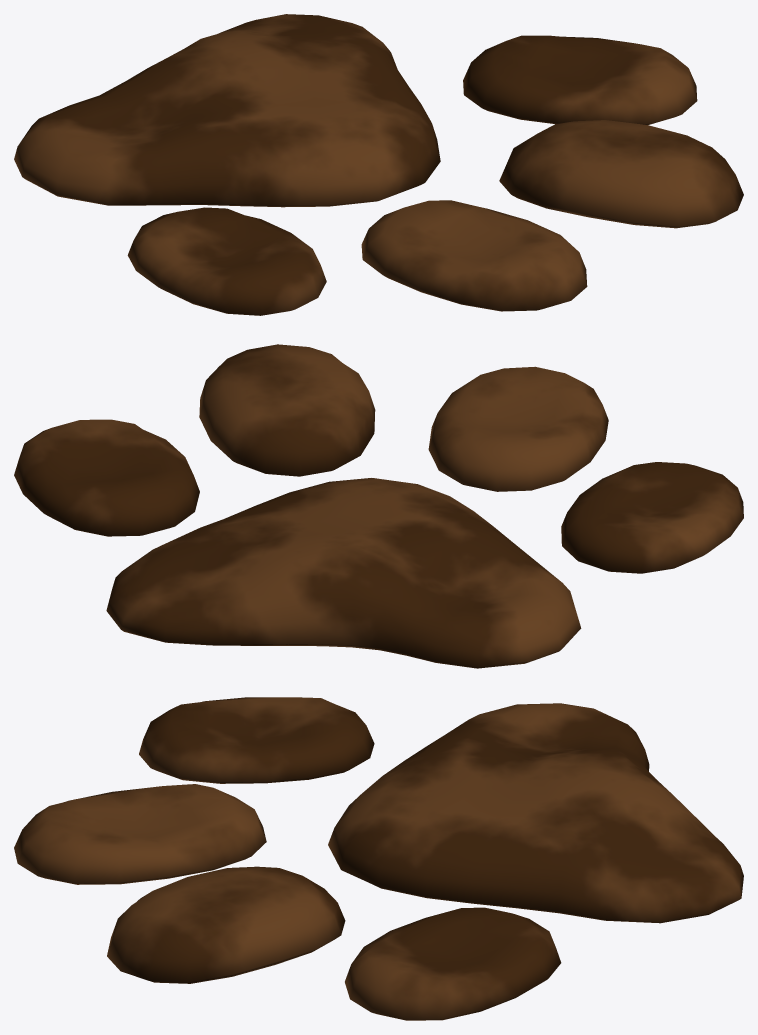
File: Mess_PawPrint.fbx
3 views of the same model, one above another, from view 1: azimuth 30°, elevation 25°; view 2: azimuth 150°, elevation 25°; view 3: azimuth 270°, elevation 25° (orthographic). The views are drawn at different scales.
Parts seen in each view (by area): view 1: Mess_PawPrint; view 2: Mess_PawPrint; view 3: Mess_PawPrint.
Boxes of the visible parts, <box> form: Mess_PawPrint: <box>14,14,743,315</box>; Mess_PawPrint: <box>14,344,743,668</box>; Mess_PawPrint: <box>14,697,743,1020</box>.
Bounding box in the file's own units: 33.8 × 3.7 × 33.89.
